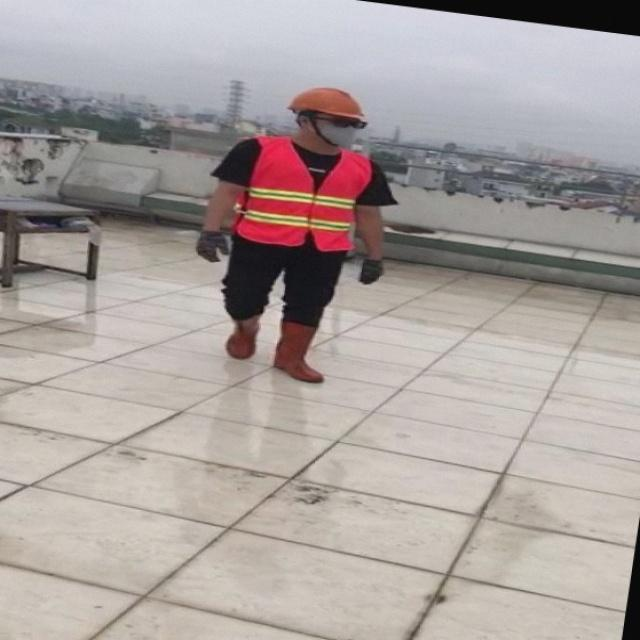helmet: (286, 84, 366, 123)
safety_vest: (238, 130, 366, 264)
